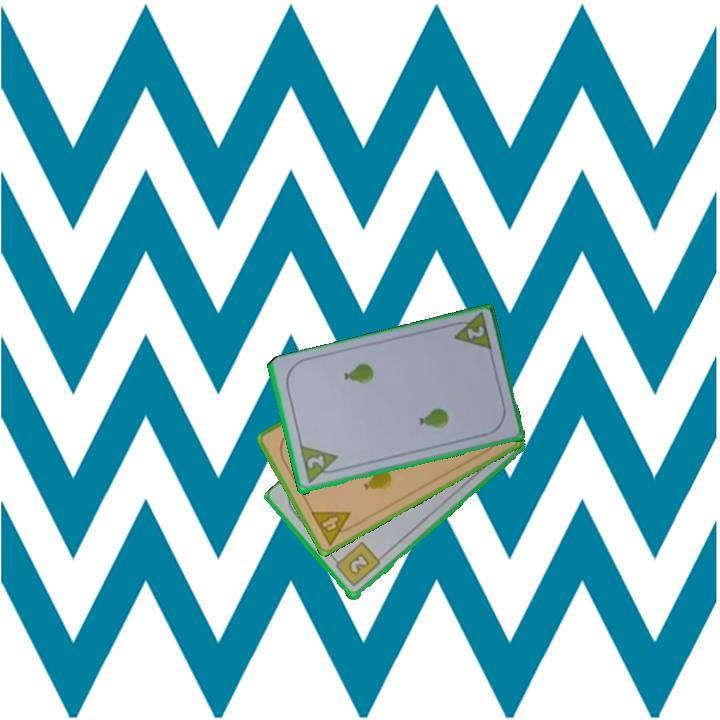2b: (329, 539, 383, 590)
2p: (446, 311, 495, 355), (303, 452, 327, 472)
4p: (307, 508, 360, 549)
